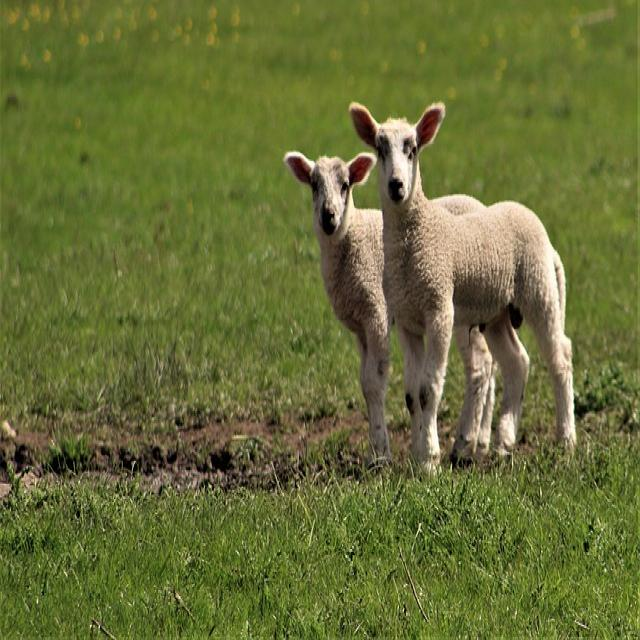sheep: (348, 98, 577, 474), (283, 148, 508, 472)
